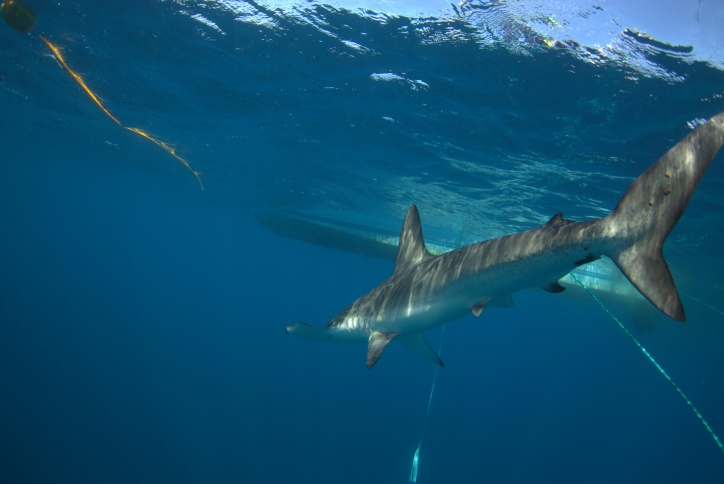Hammer: (252, 121, 724, 396), (167, 164, 415, 291)
